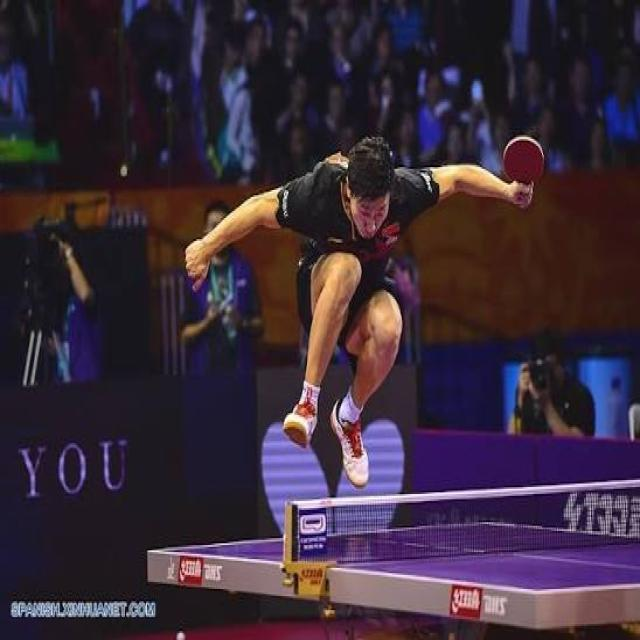TT Net: (279, 475, 639, 573)
TT Table: (148, 521, 639, 594), (495, 119, 555, 191)
